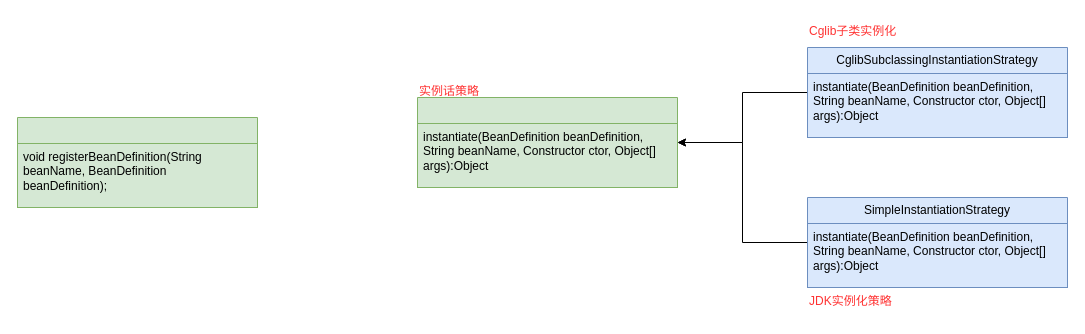
The diagram is 1085 pixels wide and 334 high, and some of its shapes have lost their labels. The shapes that lost their labels are listed below. From the top down, each one's box as (x1, y1, x2, y2) in pixels, then its label:
(16, 116, 258, 208): BeanDefinitionRegistry
(416, 96, 678, 188): InstantiationStrategy
